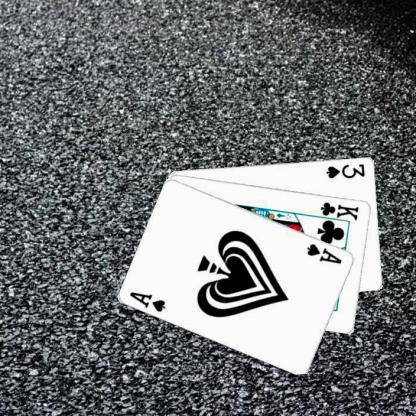3S: (324, 161, 366, 179)
AS: (127, 289, 167, 313), (305, 241, 343, 265)
KC: (313, 199, 360, 224)
